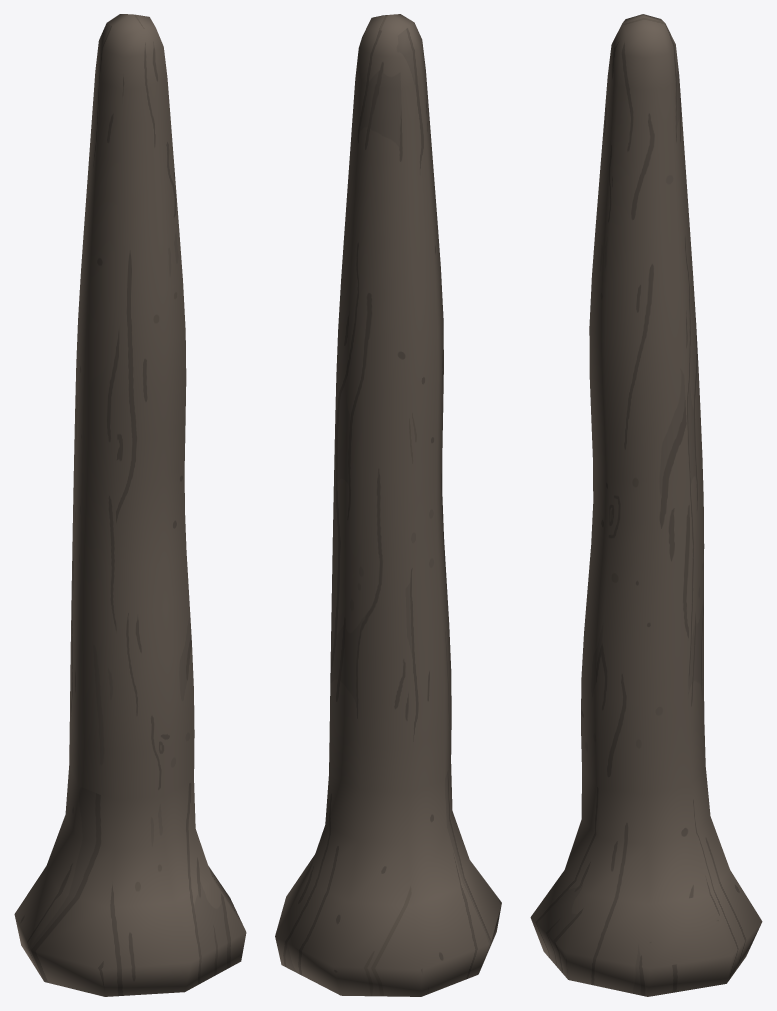
Rendered from treeH.fbx.
The picture shows the model from 3 angles, left to right: view 1: azimuth 30°, elevation 25°; view 2: azimuth 150°, elevation 25°; view 3: azimuth 270°, elevation 25°; orthographic projection.
Parts seen in each view (by area): view 1: Cube; view 2: Cube; view 3: Cube.
Boxes of the visible parts, bbox=[...] form: Cube: bbox=[14, 14, 246, 996]; Cube: bbox=[275, 14, 501, 996]; Cube: bbox=[530, 14, 762, 996].
Size of the model in its own units: 54.96 by 248 by 54.91.
